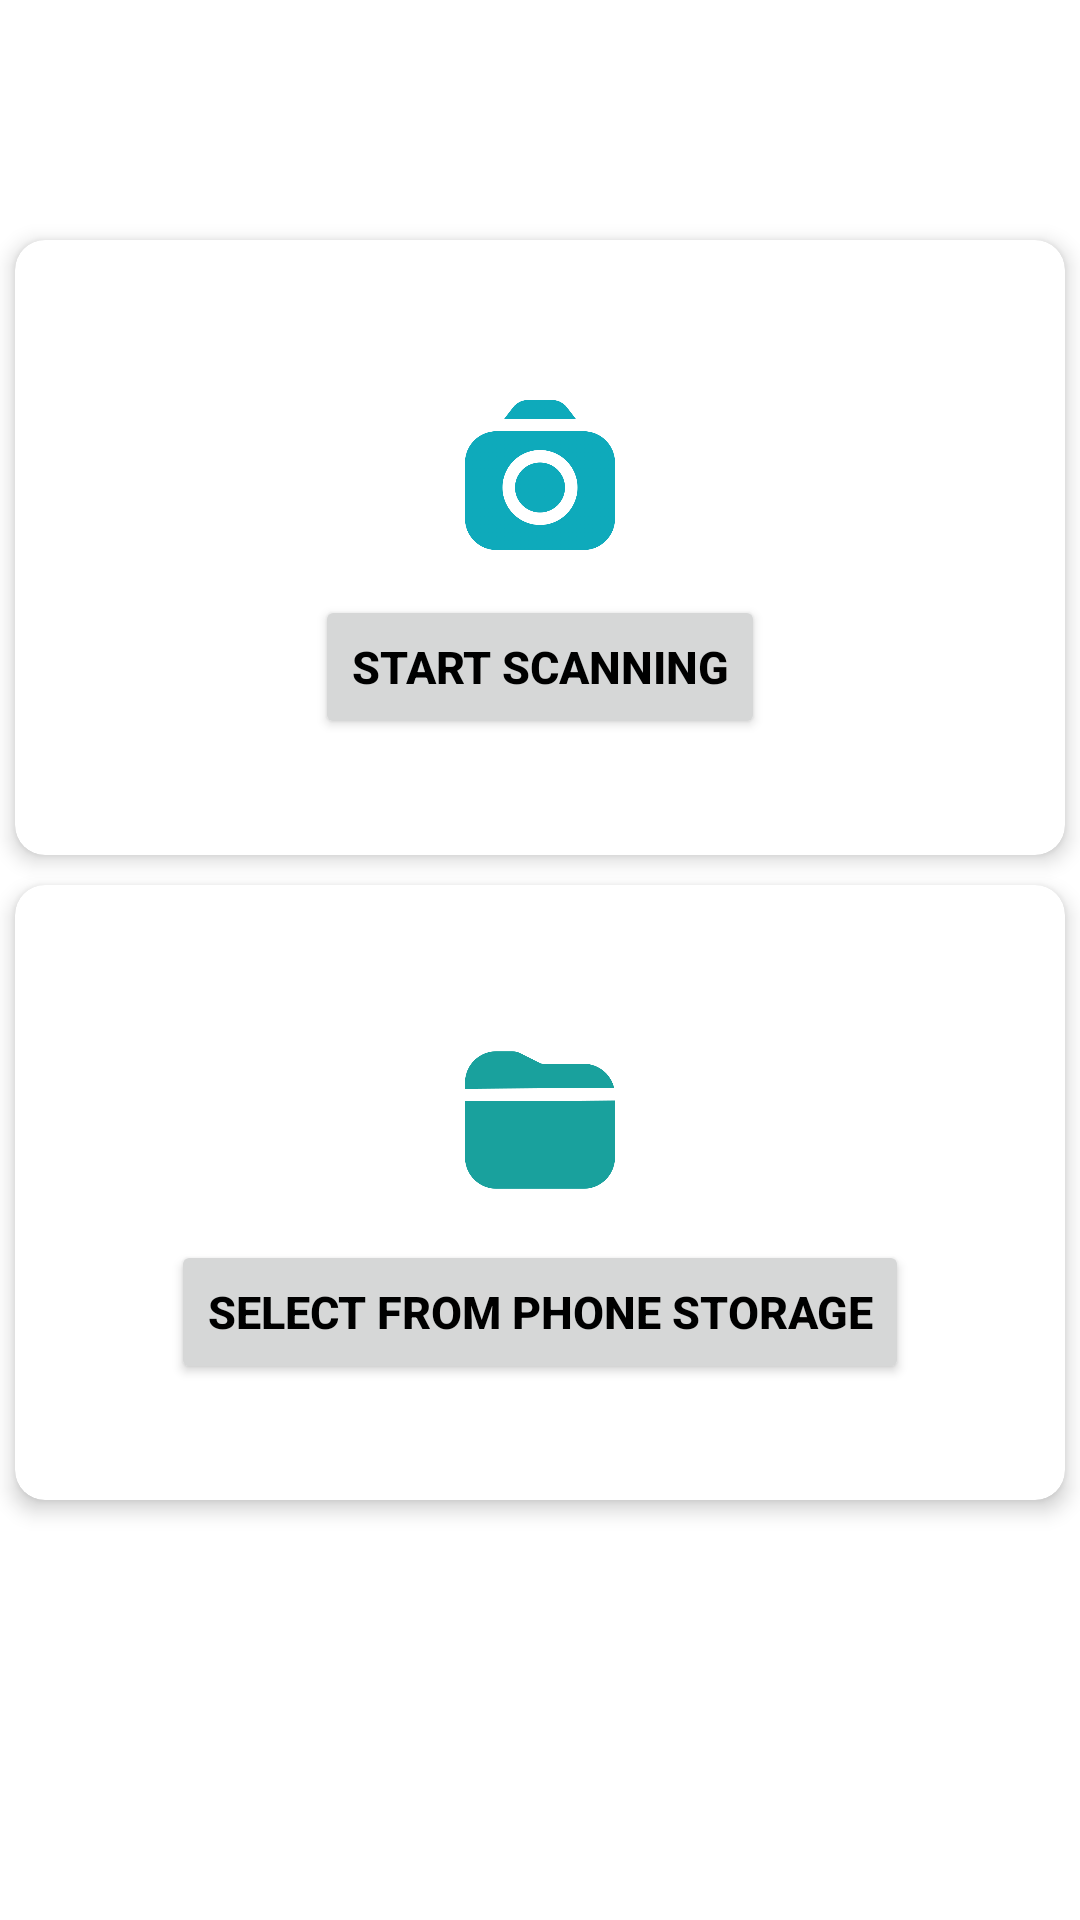

Where to tap for icons on this 1080x1920 app screen, as [x,y]:
camera: [540,475]
file: [540,1120]
